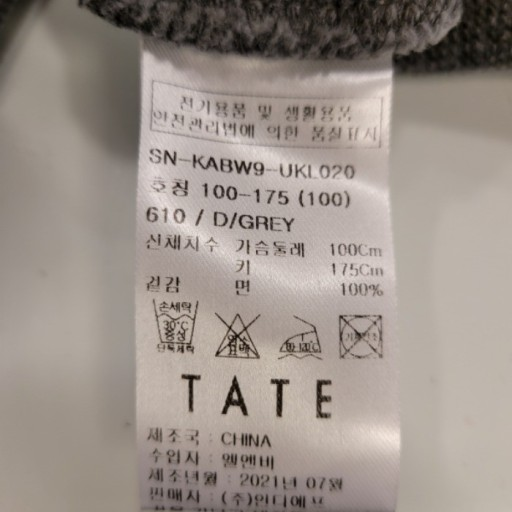KR_hand_wash_30_neutral: (150, 296, 201, 359)
KR_iron_low_temp_with_cloth: (280, 314, 323, 363)
KR_no_chlorine_bleach: (208, 308, 264, 363)
KR_no_tumble_dry: (333, 310, 387, 362)
